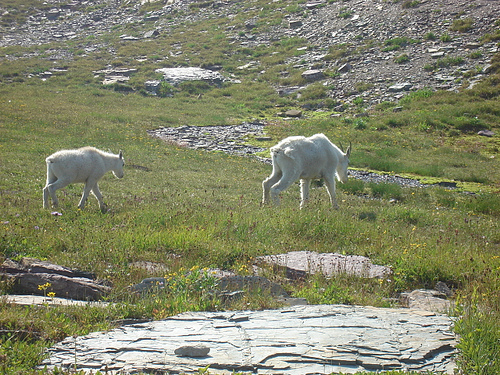goat: (261, 132, 351, 214), (41, 145, 125, 215)
